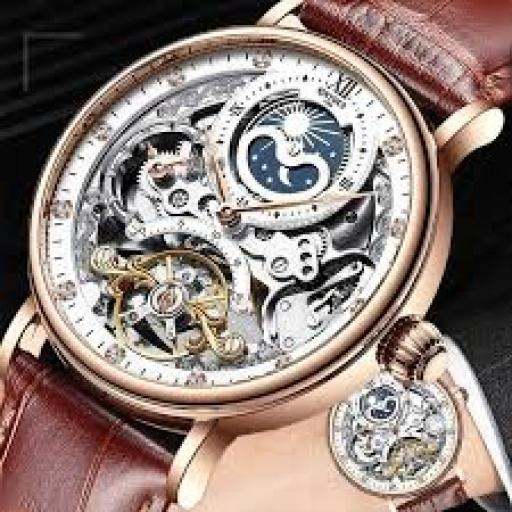KolSaati: (4, 4, 471, 450)
